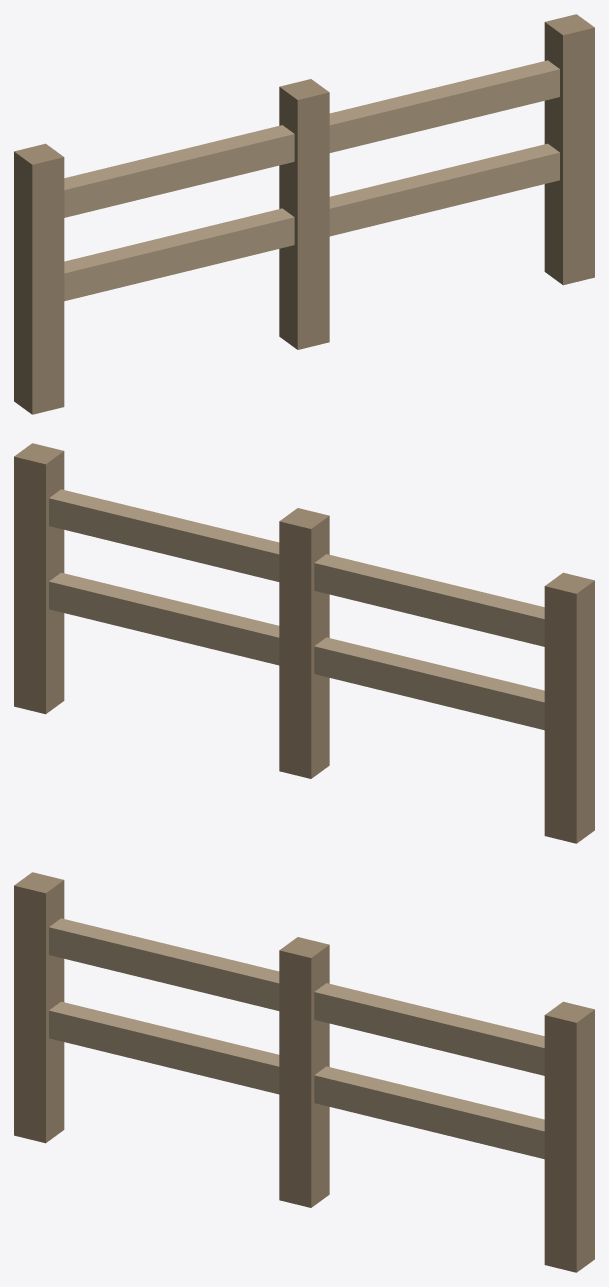
File: fence.glb
The picture shows the model from 3 angles, top to bottom: view 1: azimuth 30°, elevation 25°; view 2: azimuth 150°, elevation 25°; view 3: azimuth 330°, elevation 25°; orthographic projection.
Parts seen in each view (by area): view 1: root; view 2: root; view 3: root.
Boxes of the visible parts, x1=… form: root: x1=14, y1=14, x2=594, y2=414; root: x1=14, y1=443, x2=594, y2=843; root: x1=14, y1=872, x2=594, y2=1272.
Bounding box in the file's own units: 2.12 × 0.9 × 0.12.
